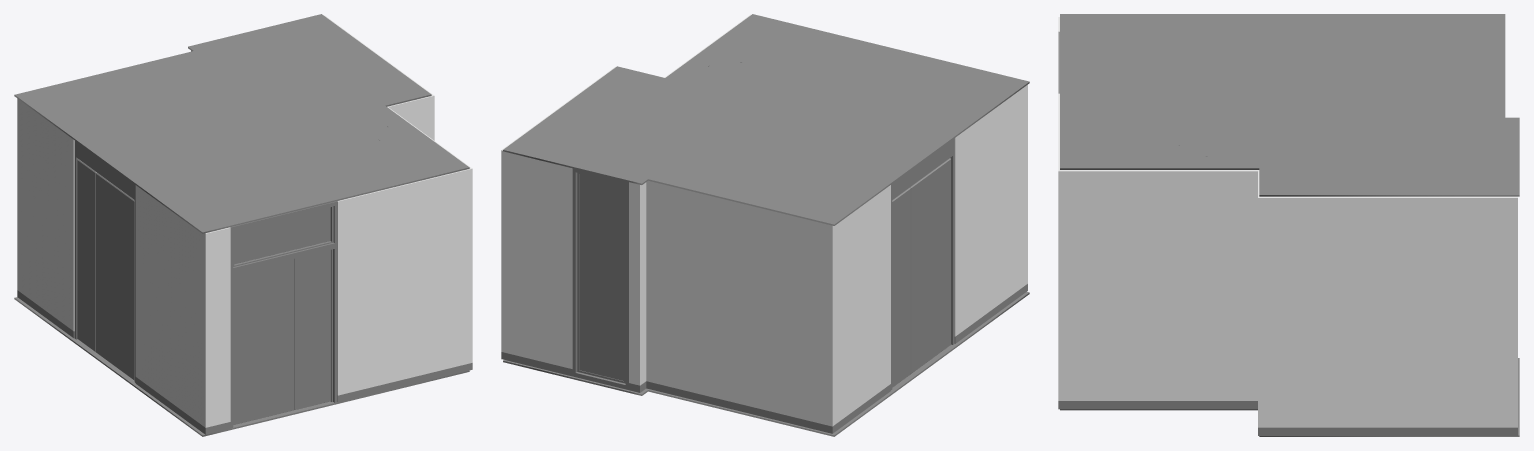
Rendered from TreatmentRoom-BurnsUnit_01.FBX.
3 views of the same model, side by side, from view 1: azimuth 30°, elevation 25°; view 2: azimuth 150°, elevation 25°; view 3: azimuth 270°, elevation 25° (orthographic). The views are drawn at different scales.
Parts seen in each view (by area): view 1: Wall_01, Ceiling_01, Door_01, Door_02, Floor_01; view 2: Wall_01, Ceiling_01, Door_02, Window_01, Floor_01; view 3: Wall_01, Ceiling_01, Floor_01.
Part boxes in pixels (x1,y1,x2,y2): Wall_01: [17, 15, 472, 434]; Ceiling_01: [14, 14, 469, 233]; Door_01: [230, 201, 337, 428]; Door_02: [74, 140, 135, 382]; Floor_01: [14, 297, 469, 436]; Wall_01: [501, 14, 1027, 433]; Ceiling_01: [503, 14, 1029, 225]; Door_02: [891, 138, 954, 389]; Window_01: [572, 168, 628, 389]; Floor_01: [503, 292, 1029, 436]; Wall_01: [1058, 17, 1517, 435]; Ceiling_01: [1060, 14, 1519, 196]; Floor_01: [1060, 358, 1519, 436].
Size of the model in its own units: 443 by 275 by 474.
